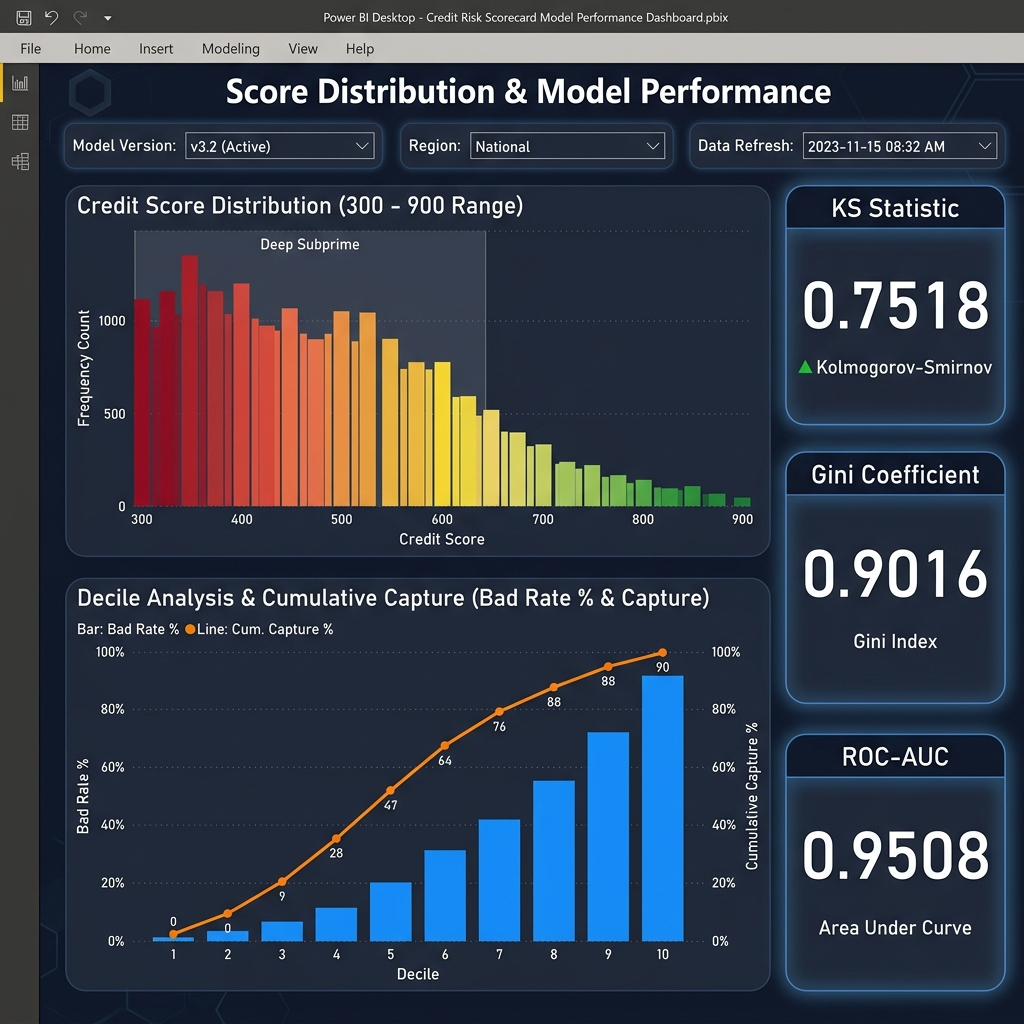

What the dashboard file says about the page in this screenshot:
{"tool":"powerbi","page":{"name":"Risk Analysis","canvas":[1280,720],"ordinal":1},"visuals":[{"type":"lineClusteredColumnComboChart","fields":{"Category":["decile_analysis.Decile"],"Y":["Avg(decile_analysis.Bad Rate (%))"],"Y2":["Avg(decile_analysis.Cumulative Bad Capture (%))"]},"box":[17.1,8.6,300.8,281.3],"z":0},{"type":"columnChart","fields":{"Category":["grade_analysis.Grade"],"Y":["Avg(grade_analysis.Default Rate (%))"],"Series":["grade_analysis.Grade"]},"box":[534.4,8.6,284.9,281.3],"z":1000},{"type":"tableEx","fields":{"Values":["risk_tier_summary.Avg Credit Score","risk_tier_summary.Avg Loan Amount","risk_tier_summary.Count","risk_tier_summary.Defaults","risk_tier_summary.Default Rate (%)","risk_tier_summary.Max Score","risk_tier_summary.Min Score","risk_tier_summary.Portfolio Share (%)","risk_tier_summary.Risk Tier"]},"box":[217.7,306.9,821.7,154.1],"z":2000},{"type":"cardVisual","fields":{"Data":["decile_analysis.KS_Value"]},"box":[353.4,20.8,143.1,152.9],"z":3000},{"type":"lineChart","fields":{"Category":["decile_analysis.Decile"],"Y":["decile_analysis.Cumulative_Good_%","decile_analysis.Bad_Capture_%_Fixed"]},"box":[941.6,22,272.7,267.8],"z":4000},{"type":"barChart","fields":{"Category":["risk_tier_summary.Risk Tier"],"Y":["Avg(risk_tier_summary.Count)"],"Series":["scored_sample.bad_loan"]},"box":[373,487.9,639.5,232.3],"z":4001}]}

Visuals, with their boxes on the page's 1280x720 design canvas (x1, y1, x2, y2). These are canvas units, not pixel positions in the 1024x1024 screenshot, which may show the page scaled, cropped or inside an application window:
lineClusteredColumnComboChart - decile_analysis.Decile x Avg(decile_analysis.Bad Rate (%)): x1=17, y1=9, x2=318, y2=290
columnChart - grade_analysis.Grade x Avg(grade_analysis.Default Rate (%)): x1=534, y1=9, x2=819, y2=290
tableEx - risk_tier_summary.Avg Credit Score x risk_tier_summary.Avg Loan Amount: x1=218, y1=307, x2=1039, y2=461
cardVisual - decile_analysis.KS_Value: x1=353, y1=21, x2=496, y2=174
lineChart - decile_analysis.Decile x decile_analysis.Cumulative_Good_%: x1=942, y1=22, x2=1214, y2=290
barChart - risk_tier_summary.Risk Tier x Avg(risk_tier_summary.Count): x1=373, y1=488, x2=1012, y2=720
